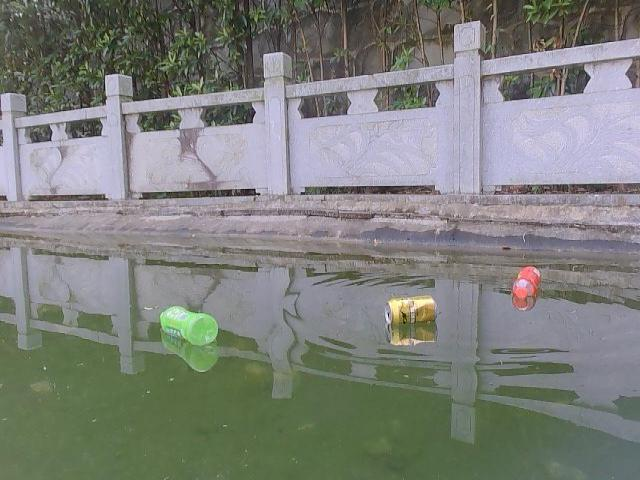Bottle: (157, 304, 221, 344), (510, 264, 545, 302)
Can: (382, 294, 439, 328)
